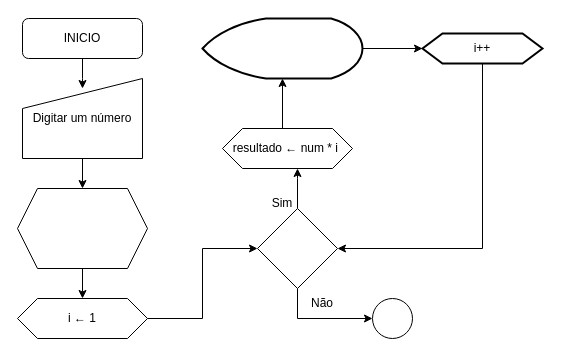
Some shapes in this 561 by 356 pixel diagram are drawn without their labels. Each missing label, with the centre of its shape:
"i <= 10?" goes at point (297, 248).
"num X i = resultado" goes at point (282, 48).
"num ← numDigitado" goes at point (82, 228).
